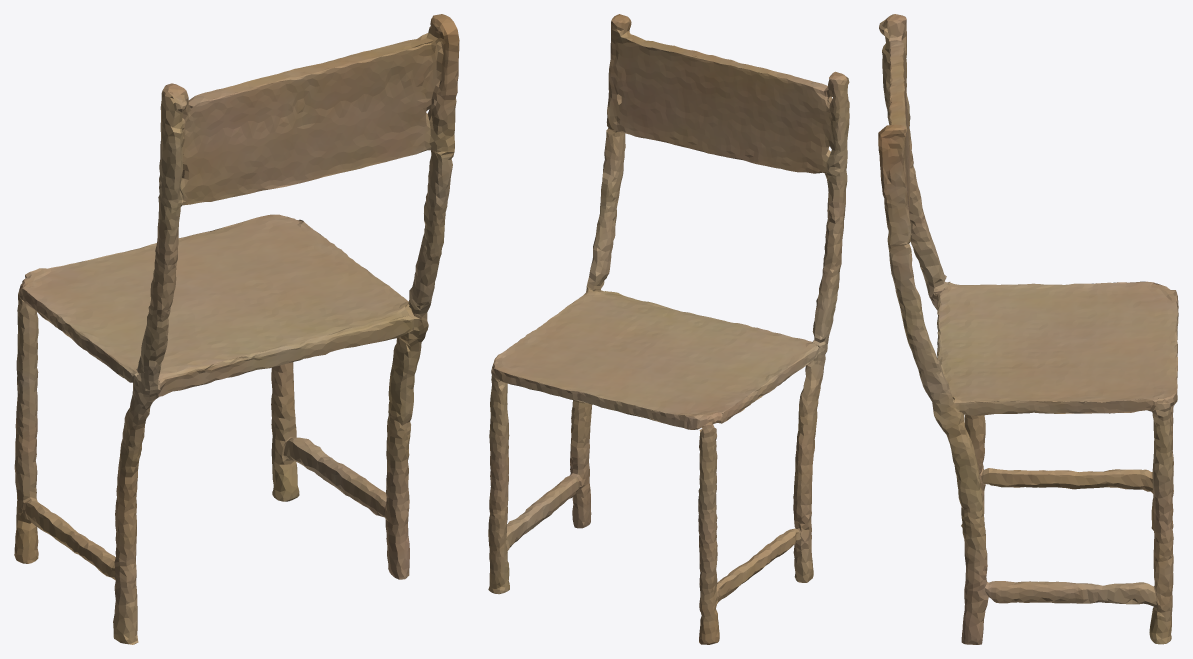
The picture shows the model from 3 angles, left to right: view 1: azimuth 30°, elevation 25°; view 2: azimuth 150°, elevation 25°; view 3: azimuth 270°, elevation 25°; orthographic projection. The views are drawn at different scales.
Visible parts, largest first — view 1: defaultobject; view 2: defaultobject; view 3: defaultobject.
Part boxes in pixels (x1,y1,x2,y2): defaultobject: (14,14,459,644); defaultobject: (488,14,849,644); defaultobject: (878,14,1178,644).
Bounding box in the file's own units: 0.4187 × 0.8057 × 0.4253.
